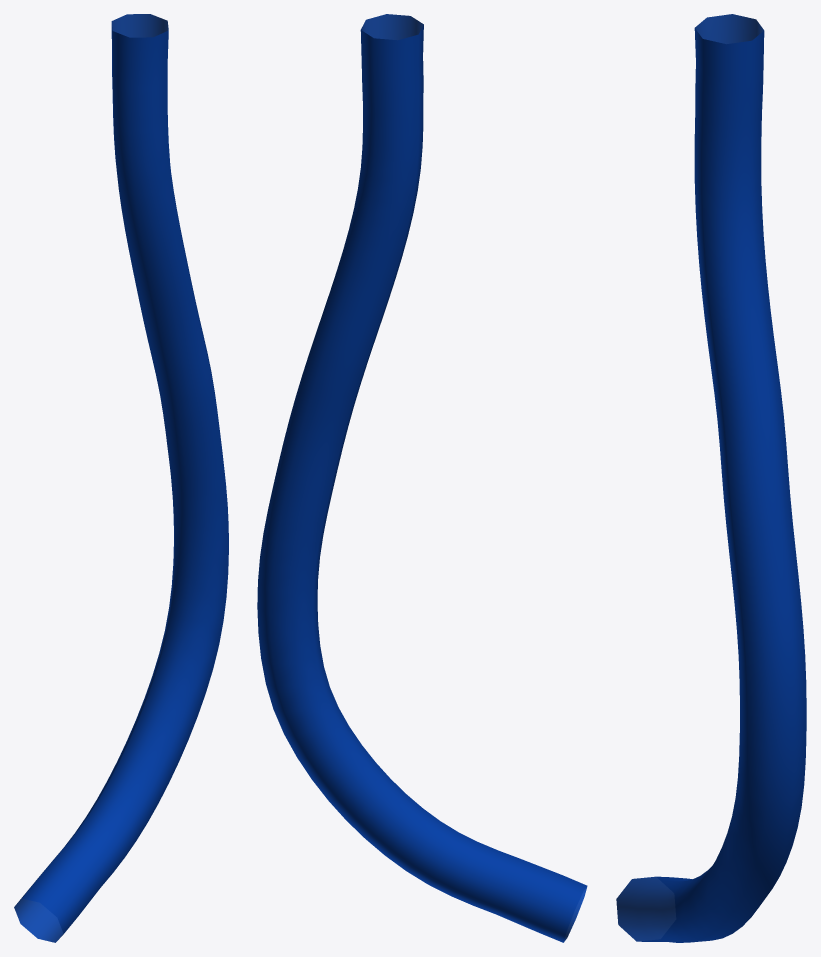
The model's file is Dryline.fbx.
The picture shows the model from 3 angles, left to right: view 1: azimuth 30°, elevation 25°; view 2: azimuth 150°, elevation 25°; view 3: azimuth 270°, elevation 25°; orthographic projection. The views are drawn at different scales.
Parts seen in each view (by area): view 1: dryline_1; view 2: dryline_1; view 3: dryline_1.
Boxes of the visible parts, x1=… form: dryline_1: x1=14, y1=14, x2=228, y2=942; dryline_1: x1=257, y1=14, x2=587, y2=942; dryline_1: x1=616, y1=14, x2=806, y2=942.
Size of the model in its own units: 12.65 by 40.6 by 7.11.
